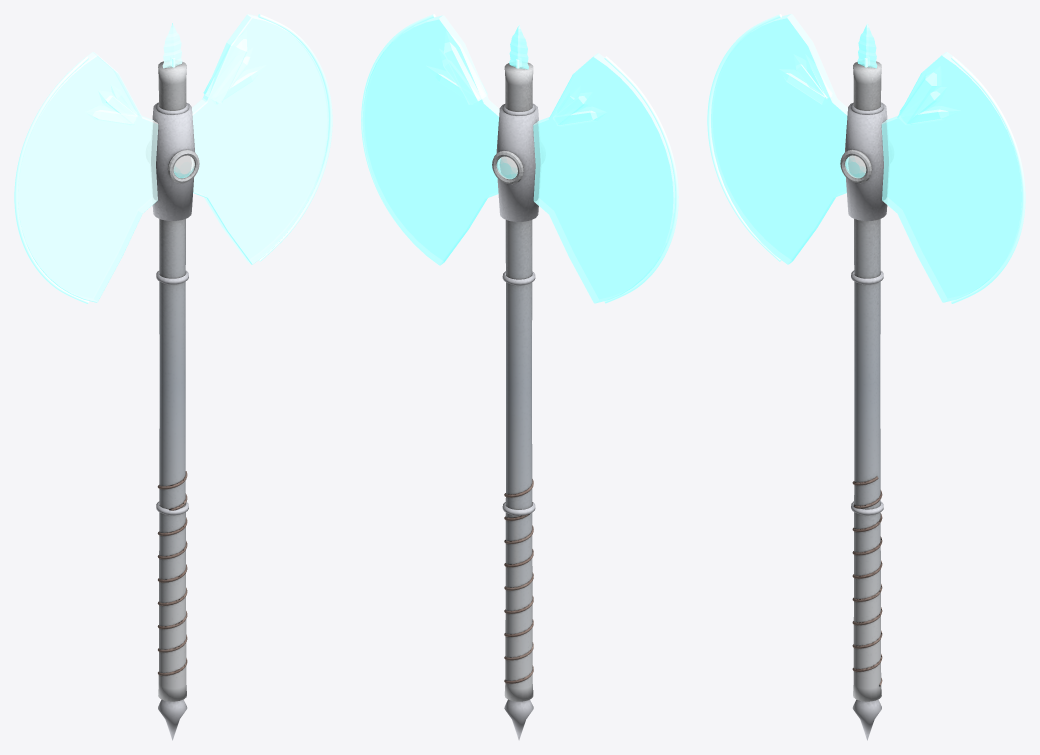
The model's file is arma_lend_machado_gigante_gelo.glb.
3 views of the same model, side by side, from view 1: azimuth 30°, elevation 25°; view 2: azimuth 150°, elevation 25°; view 3: azimuth 330°, elevation 25° (orthographic).
Parts seen in each view (by area): view 1: lamina-1, lamina1, arma_lend_machado_gigante_gelo, ac_mach12, gume-1, gume1, ponta_topo, ac_mach-10, ac_mach11; view 2: lamina-1, lamina1, arma_lend_machado_gigante_gelo, ac_mach12, gume-1, gume1, ponta_topo, ac_mach-10, ac_mach11; view 3: lamina-1, lamina1, arma_lend_machado_gigante_gelo, gume1, gume-1, ac_mach12, ponta_topo, ac_mach-10, ac_mach11, ac_mach10.
Boxes of the visible parts, x1,y1,x2,y2 form: lamina-1: [18, 52, 158, 302]; lamina1: [192, 14, 328, 264]; arma_lend_machado_gigante_gelo: [151, 61, 199, 740]; ac_mach12: [203, 31, 247, 103]; gume-1: [14, 56, 88, 303]; gume1: [258, 14, 332, 261]; ponta_topo: [162, 23, 182, 68]; ac_mach-10: [86, 106, 137, 125]; ac_mach11: [207, 48, 252, 103]; lamina-1: [533, 53, 675, 303]; lamina1: [362, 15, 499, 265]; arma_lend_machado_gigante_gelo: [492, 62, 540, 740]; ac_mach12: [444, 31, 487, 104]; gume-1: [604, 56, 678, 303]; gume1: [361, 14, 435, 255]; ponta_topo: [509, 24, 528, 69]; ac_mach-10: [554, 107, 606, 126]; ac_mach11: [439, 49, 484, 104]; lamina-1: [711, 14, 847, 264]; lamina1: [881, 52, 1021, 302]; arma_lend_machado_gigante_gelo: [840, 61, 888, 740]; gume1: [951, 56, 1025, 303]; gume-1: [707, 14, 781, 261]; ac_mach12: [898, 66, 941, 125]; ponta_topo: [857, 23, 877, 68]; ac_mach-10: [779, 69, 827, 104]; ac_mach11: [901, 87, 946, 122]; ac_mach10: [903, 106, 959, 123].
Size of the model in its own units: 0.7923 by 1.71 by 0.1142.
Materials: 16 (1 with a texture image).
